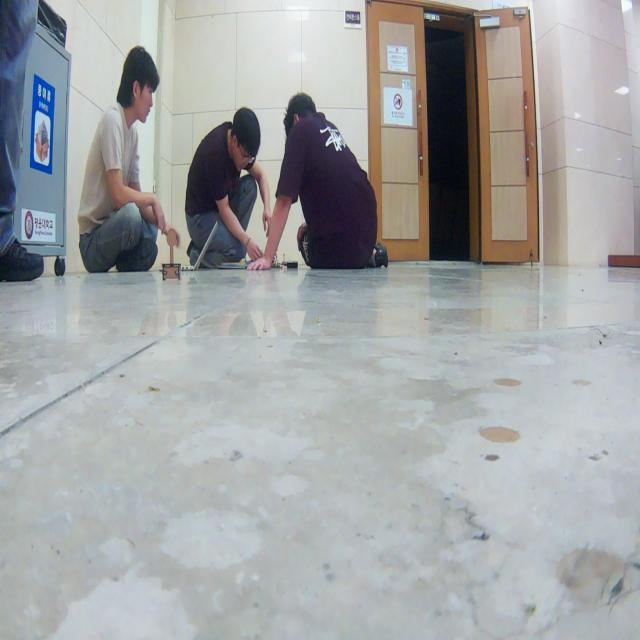target: (162, 227, 181, 281)
